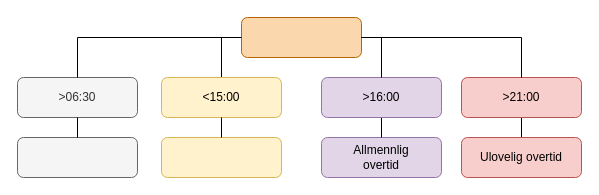
Image size: 599x195. Some labels were removed from this diagram. The centre of each missing label's shape, as x and y in pixels:
"Allmennlig begynnelse" goes at point (77, 157).
"Allmennlig slutt" goes at point (221, 157).
"Arbeidstid pr. døgn" goes at point (301, 37).
